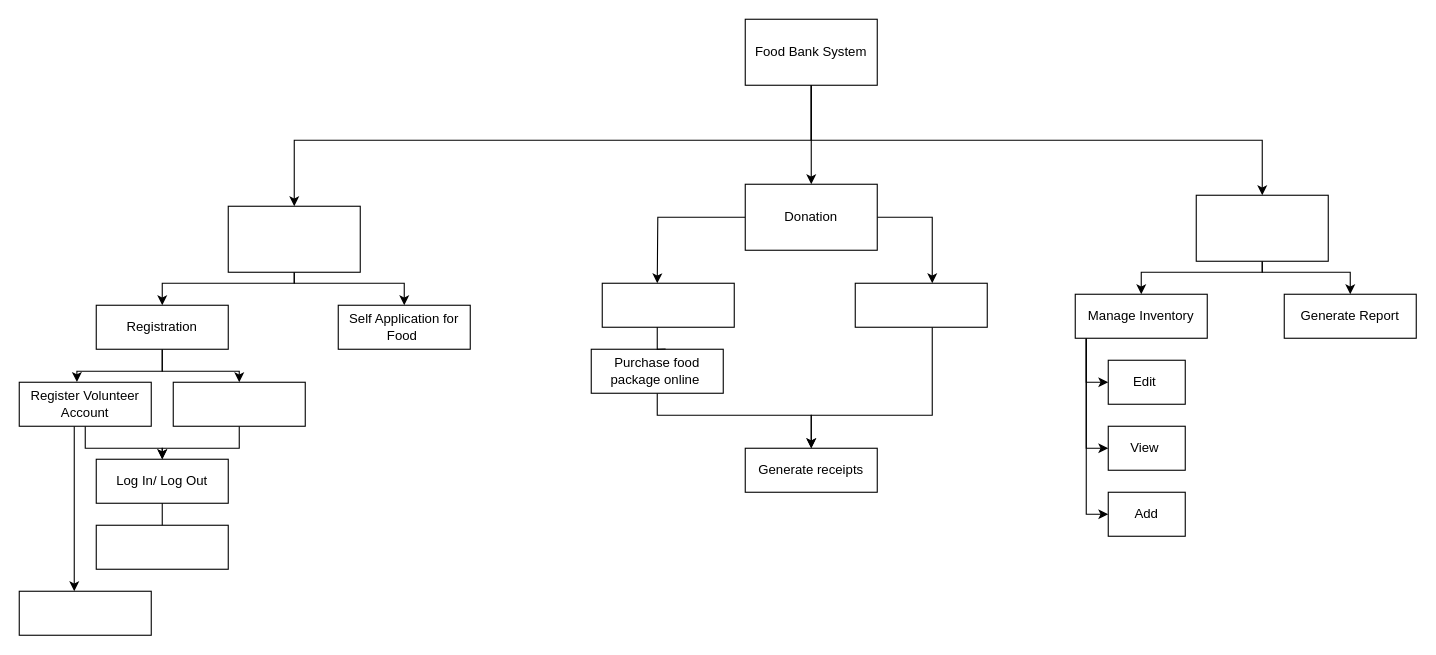
This 1436x655 diagram has some shape labels left out. Here are the shapes that lost their labels. From the top down, the centre of each, then its label:
point (293, 238): User Management Module
point (1261, 227): Inventory Management and Reporting
point (667, 304): Manage food donation
point (920, 304): Manage cash donation
point (238, 403): Register Donator Account
point (161, 546): Manage profile
point (84, 612): Time scheduling
